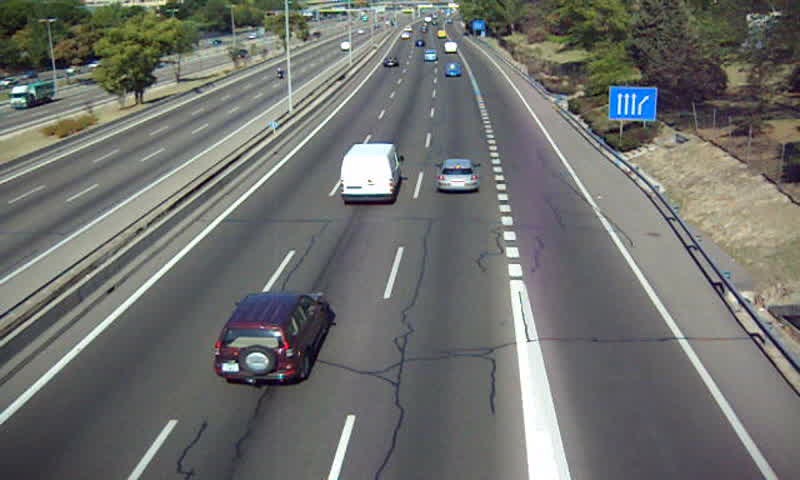car: (215, 293, 326, 383), (437, 159, 478, 192), (443, 60, 462, 77), (421, 48, 440, 62), (382, 56, 398, 68)
van: (341, 144, 401, 204)
